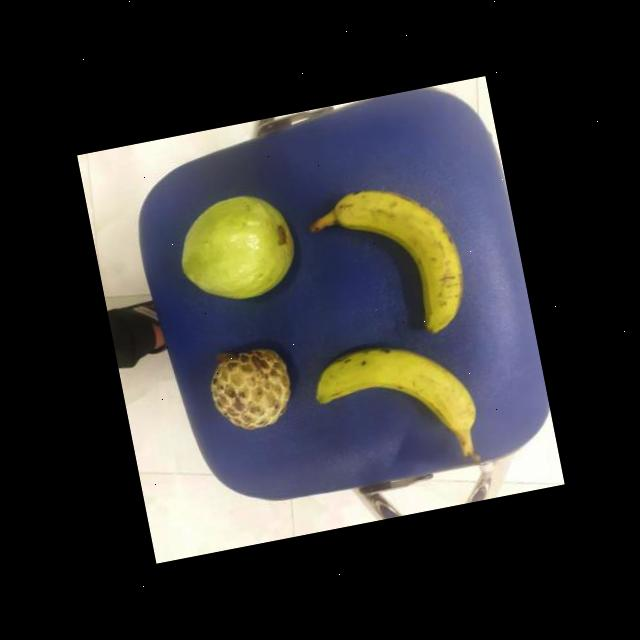Sakya fruit: (200, 336, 296, 438)
banana: (326, 168, 472, 346), (309, 326, 480, 462)
guava: (170, 183, 301, 310)
